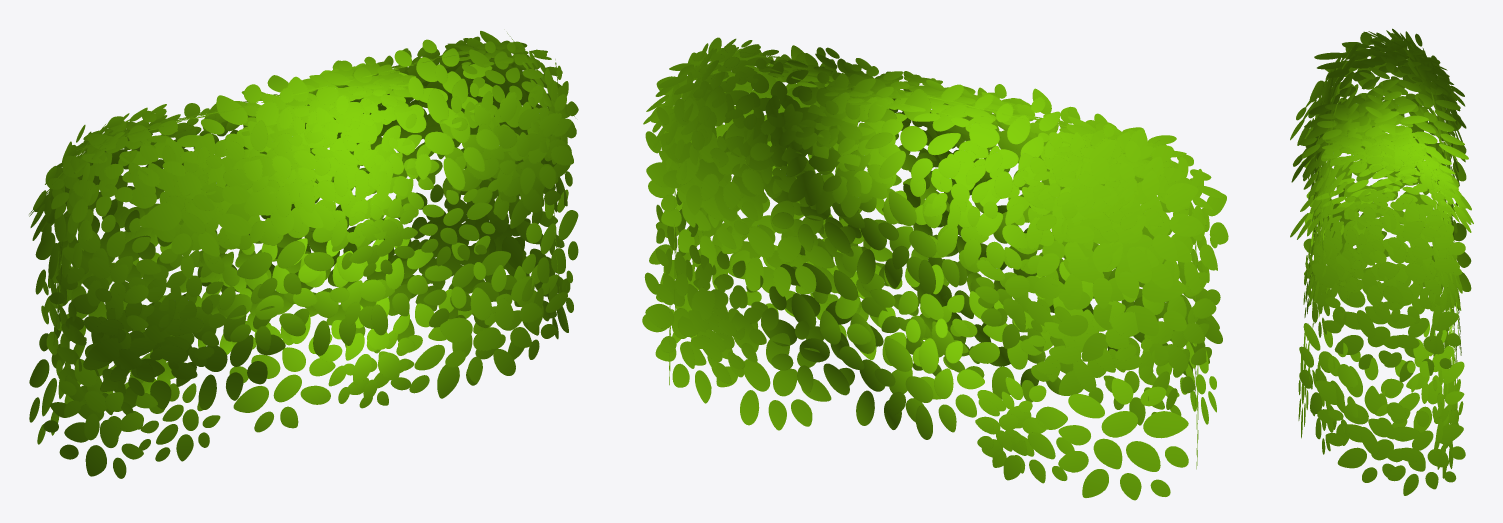
The model's file is bush_large.gltf.
3 views of the same model, side by side, from view 1: azimuth 30°, elevation 25°; view 2: azimuth 150°, elevation 25°; view 3: azimuth 270°, elevation 25° (orthographic). The views are drawn at different scales.
Parts seen in each view (by area): view 1: Bush_Large; view 2: Bush_Large; view 3: Bush_Large.
Boxes of the visible parts, box(x1,y1,x2,y2) form: Bush_Large: box(29, 31, 578, 478); Bush_Large: box(642, 37, 1228, 500); Bush_Large: box(1290, 28, 1473, 495).
Bounding box in the file's own units: 1.9 × 1.22 × 0.7238.
1 material, 1 textured.
